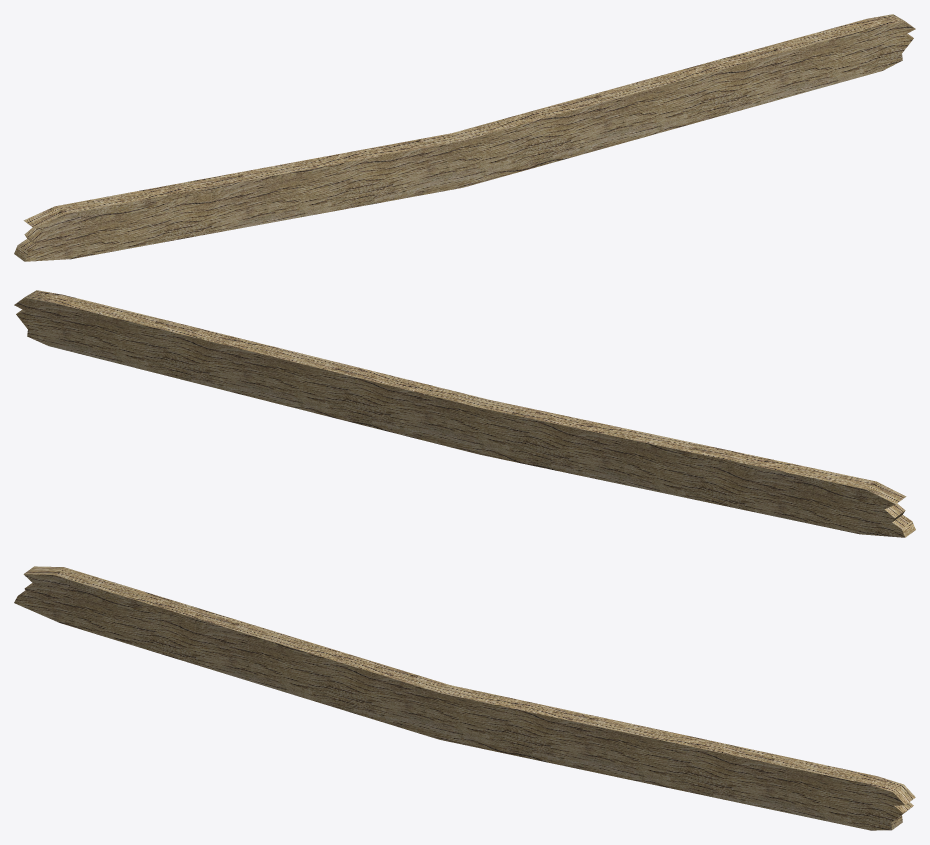
Rendered from woodenPlank02.FBX.
The picture shows the model from 3 angles, top to bottom: view 1: azimuth 30°, elevation 25°; view 2: azimuth 150°, elevation 25°; view 3: azimuth 330°, elevation 25°; orthographic projection.
Visible parts, largest first — view 1: wooden_fence_plank_large3; view 2: wooden_fence_plank_large3; view 3: wooden_fence_plank_large3.
Part boxes in pixels (box(x1,y1,x2,y2)): wooden_fence_plank_large3: box(14, 14, 915, 261); wooden_fence_plank_large3: box(14, 290, 915, 537); wooden_fence_plank_large3: box(14, 566, 915, 830).
Size of the model in its own units: 417 by 29.06 by 13.75.
